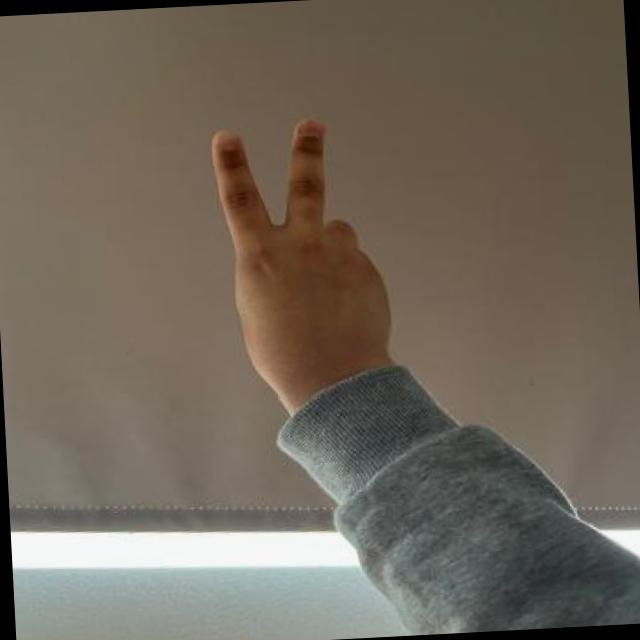V: (204, 110, 398, 404)
